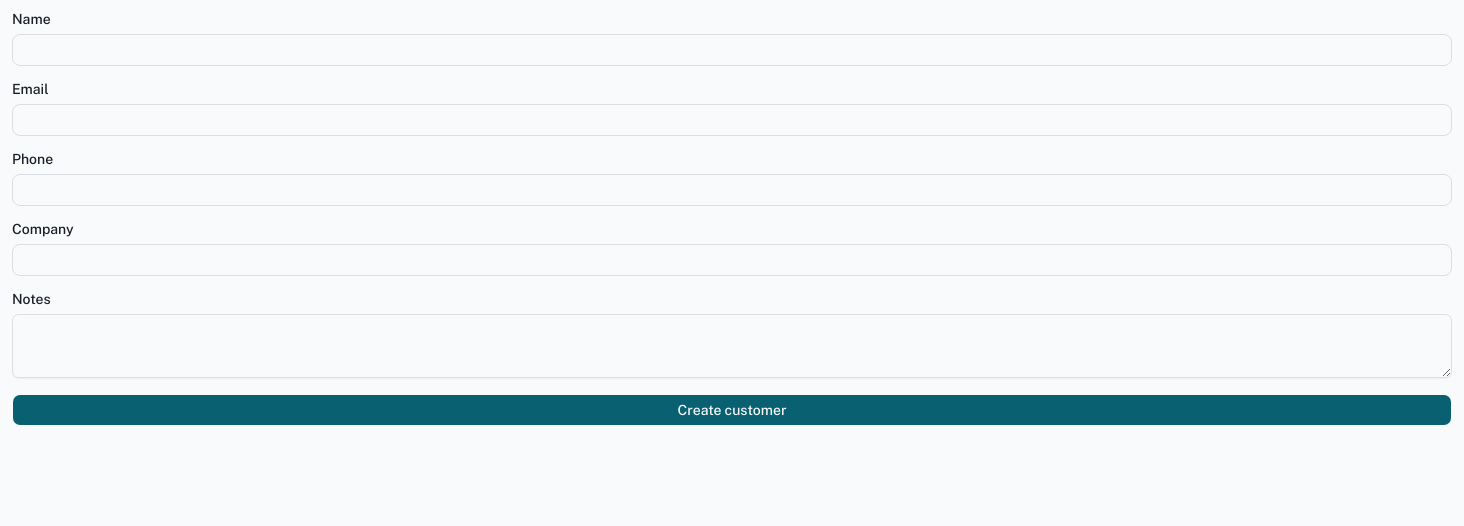
Test: CustomerForm › shows field errors and does not submit invalid input
In the field labelled "Email": (732,120) x1=12 y1=104 x2=1452 y2=136, type "not-an-email"
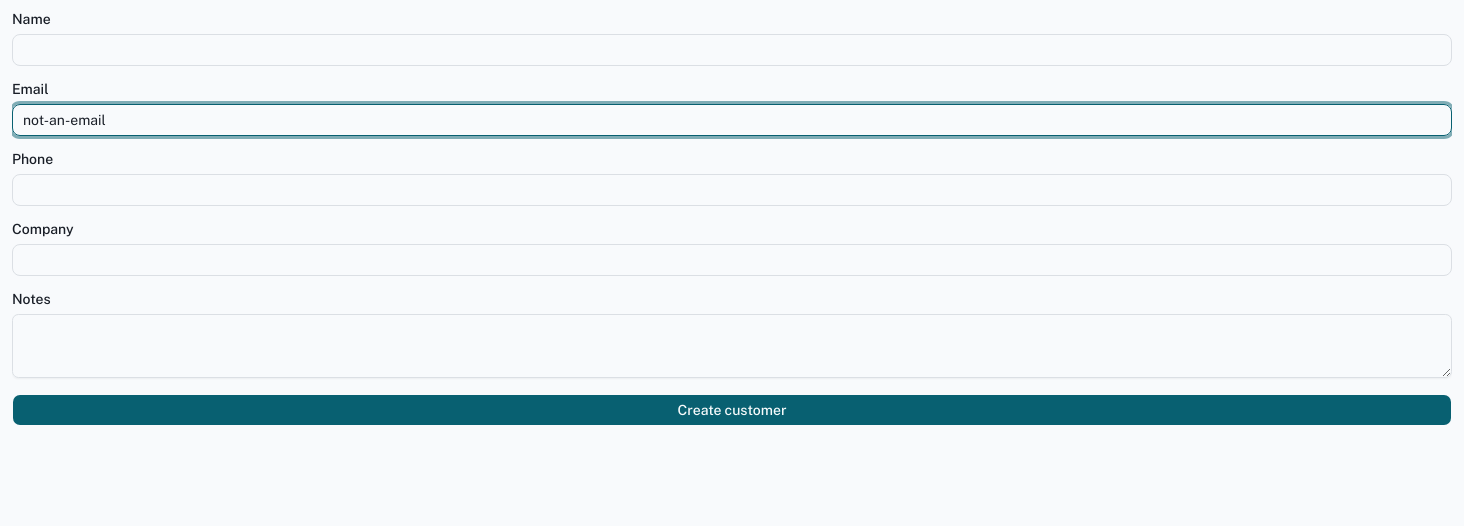
Submit the form
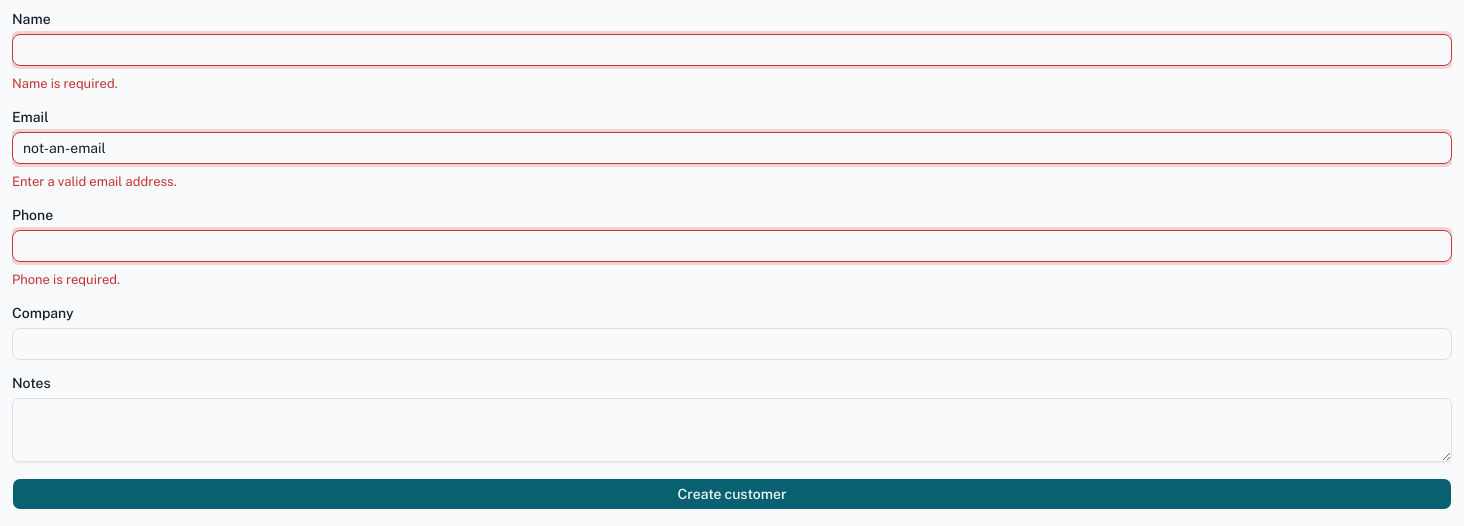
Expected: the message "Name is required." is shown, x1=12 y1=76 x2=118 y2=91
Expected: the message "Enter a valid email address." is shown, x1=12 y1=174 x2=177 y2=189
Expected: the message "Phone is required." is shown, x1=12 y1=272 x2=120 y2=287
